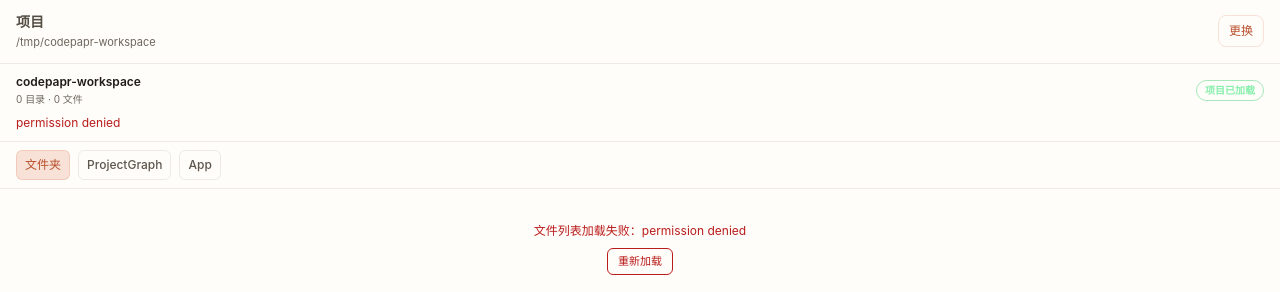
Test: CodingWorkbench › N21：文件树加载失败时显示错误与重试入口，而非误导性的「没有文件」
Click the button "重新加载".
click(640, 261)  # box x1=607 y1=248 x2=673 y2=274
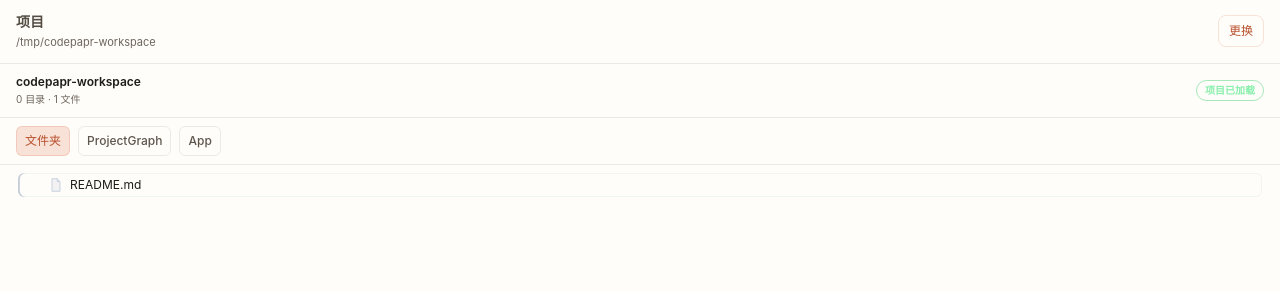
Expected: the text "README.md" is shown, x1=70 y1=178 x2=141 y2=190
Expected: the text "文件列表加载失败" is gone
